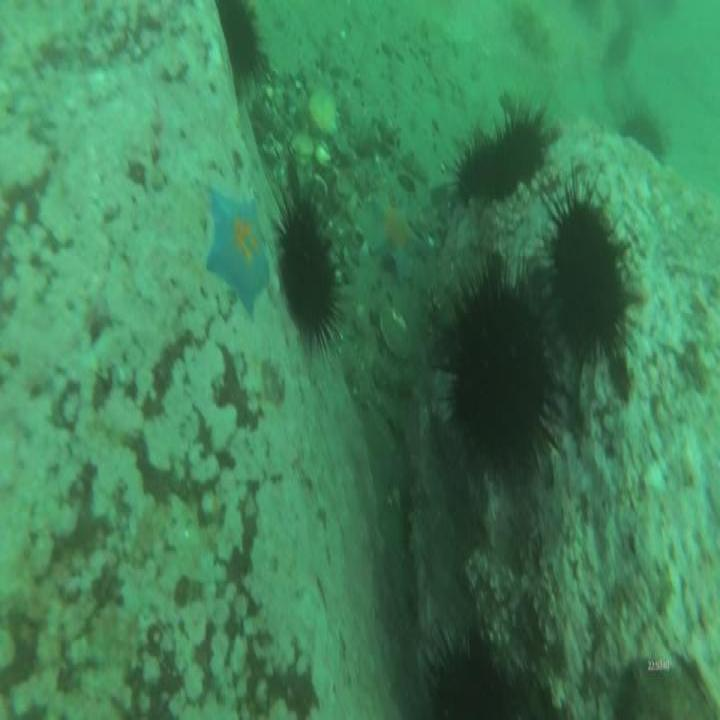echinus: (436, 251, 567, 489), (533, 169, 642, 373), (268, 180, 345, 362), (418, 620, 535, 720), (447, 124, 521, 204), (490, 90, 550, 188), (215, 0, 271, 98), (620, 100, 673, 166), (603, 18, 636, 69)
scallop: (377, 299, 416, 366)
starfish: (201, 183, 274, 320), (363, 185, 428, 288)
